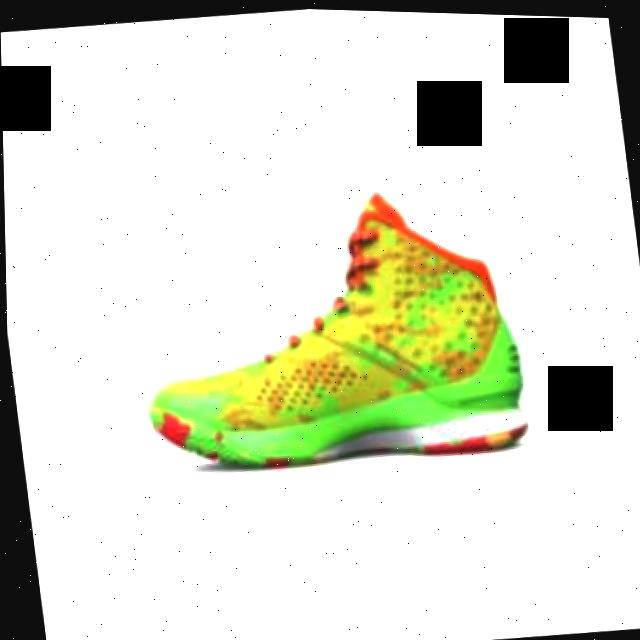shoe: (124, 169, 530, 480)
